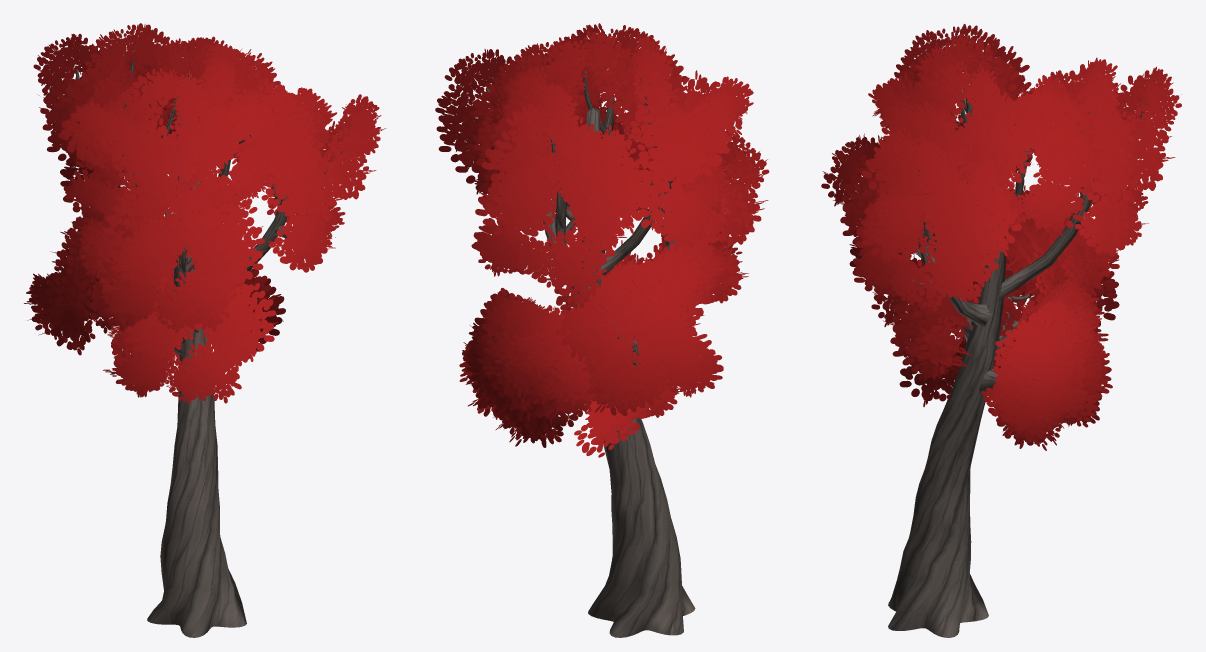
Rendered from TwistedTree_5.gltf.
3 renders of one model, left to right at view 1: azimuth 30°, elevation 25°; view 2: azimuth 150°, elevation 25°; view 3: azimuth 270°, elevation 25°, orthographic. The views are drawn at different scales.
Parts seen in each view (by area): view 1: TwistedTree_5; view 2: TwistedTree_5; view 3: TwistedTree_5.
Part boxes in pixels (bbox=[...]): TwistedTree_5: bbox=[24, 23, 386, 637]; TwistedTree_5: bbox=[435, 23, 769, 637]; TwistedTree_5: bbox=[821, 24, 1181, 637].
Size of the model in its own units: 9.5 by 15.66 by 9.39.
Materials: 2 (2 with a texture image).
